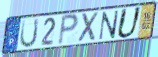2: (40, 16, 57, 46)
N: (98, 9, 120, 41)
P: (56, 13, 80, 47)
U: (115, 6, 143, 40), (19, 18, 40, 50)
X: (78, 11, 101, 44)
